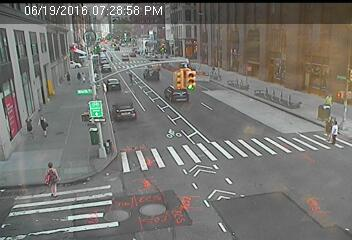neg: (274, 114, 305, 156), (159, 119, 183, 151), (97, 129, 120, 159), (254, 65, 275, 93), (223, 128, 242, 153), (206, 63, 222, 84), (297, 54, 311, 74), (122, 66, 135, 83), (315, 51, 327, 68)
pos: (35, 159, 65, 198), (319, 87, 341, 116), (33, 112, 51, 137), (19, 113, 37, 138), (329, 120, 347, 144), (62, 68, 73, 84), (73, 71, 82, 83)
